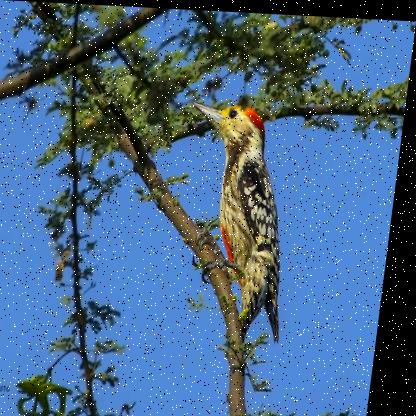Burung: (173, 98, 309, 338)
